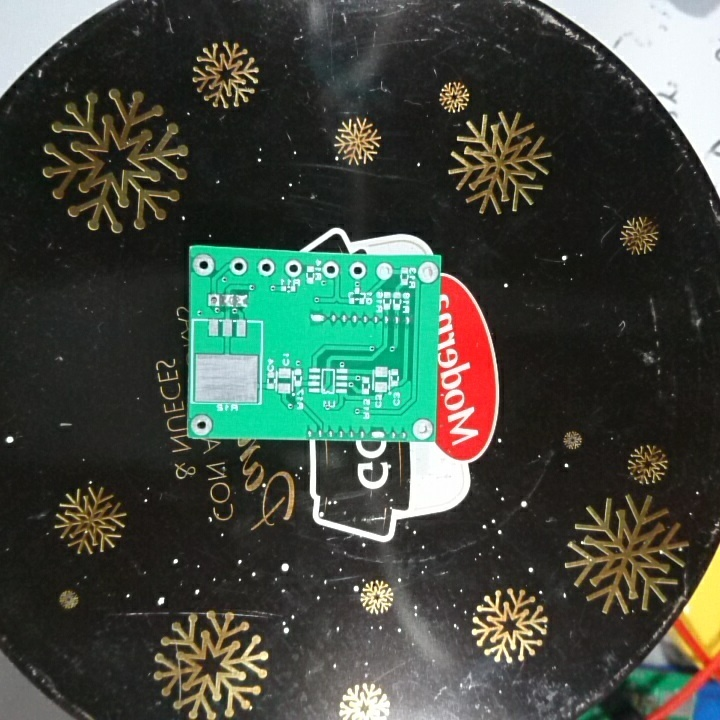F: (187, 410, 215, 438), (190, 252, 218, 278), (410, 417, 436, 443), (416, 259, 440, 286), (373, 258, 395, 284), (256, 257, 279, 278), (228, 256, 249, 278), (283, 258, 304, 280), (347, 258, 368, 280), (321, 259, 341, 281), (204, 291, 221, 309)
P: (307, 309, 328, 329), (367, 428, 388, 442)
